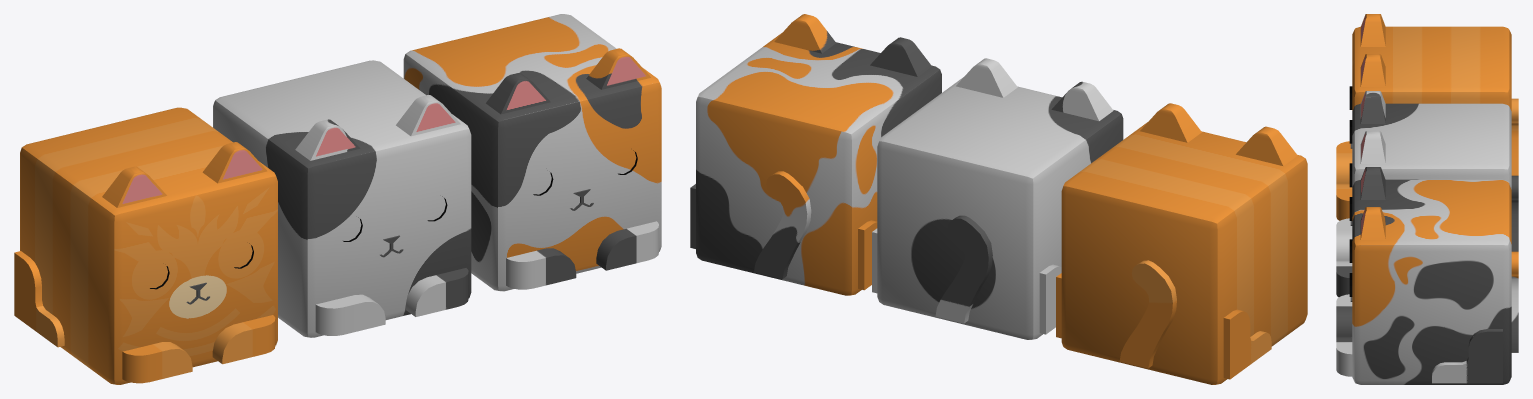
File: Cube Cat Collection.gltf
The picture shows the model from 3 angles, left to right: view 1: azimuth 30°, elevation 25°; view 2: azimuth 150°, elevation 25°; view 3: azimuth 270°, elevation 25°; orthographic projection. The views are drawn at different scales.
Parts seen in each view (by area): view 1: OrangeCat, SpotCat, CalicoCat; view 2: OrangeCat, SpotCat, CalicoCat; view 3: CalicoCat, OrangeCat, SpotCat.
Part boxes in pixels (bbox=[...]): OrangeCat: bbox=[14, 107, 277, 384]; SpotCat: bbox=[213, 60, 471, 337]; CalicoCat: bbox=[403, 14, 661, 291]; OrangeCat: bbox=[1056, 103, 1307, 384]; SpotCat: bbox=[872, 58, 1123, 339]; CalicoCat: bbox=[690, 14, 941, 295]; CalicoCat: bbox=[1336, 167, 1518, 384]; OrangeCat: bbox=[1336, 14, 1518, 220]; SpotCat: bbox=[1336, 91, 1518, 297].
Size of the model in its own units: 3.35 by 1.15 by 1.14.
3 materials, 3 textured.
